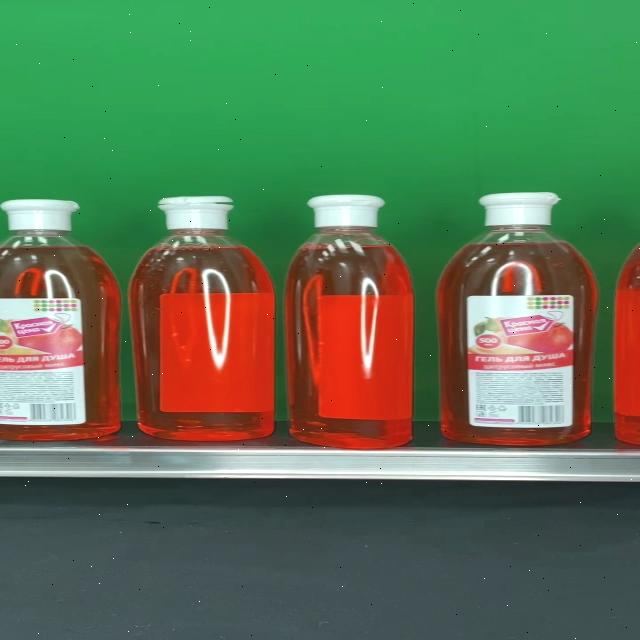Bottle: (437, 192, 599, 446), (130, 196, 276, 440), (284, 194, 416, 448), (0, 199, 121, 441)
Cap: (478, 192, 560, 225), (157, 196, 234, 230), (307, 195, 385, 228), (0, 200, 80, 230)
